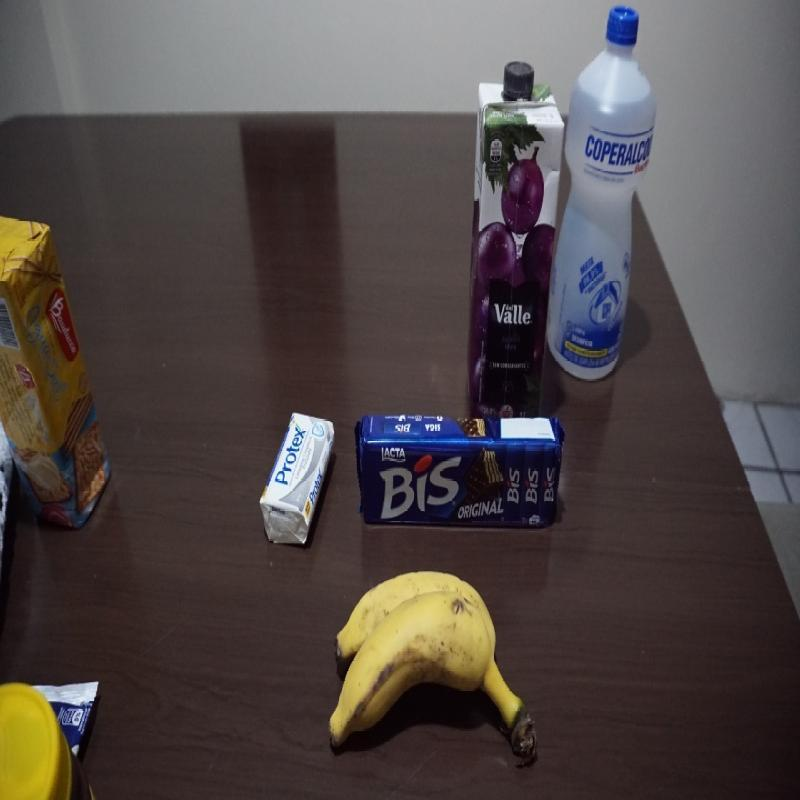Alcohol Bottle: (546, 7, 657, 387)
Banana: (326, 569, 540, 764)
Chocolate Powder: (1, 681, 91, 798)
Cracker: (2, 212, 116, 538)
Popcorn: (36, 671, 108, 756)
Soap: (258, 407, 337, 546)
